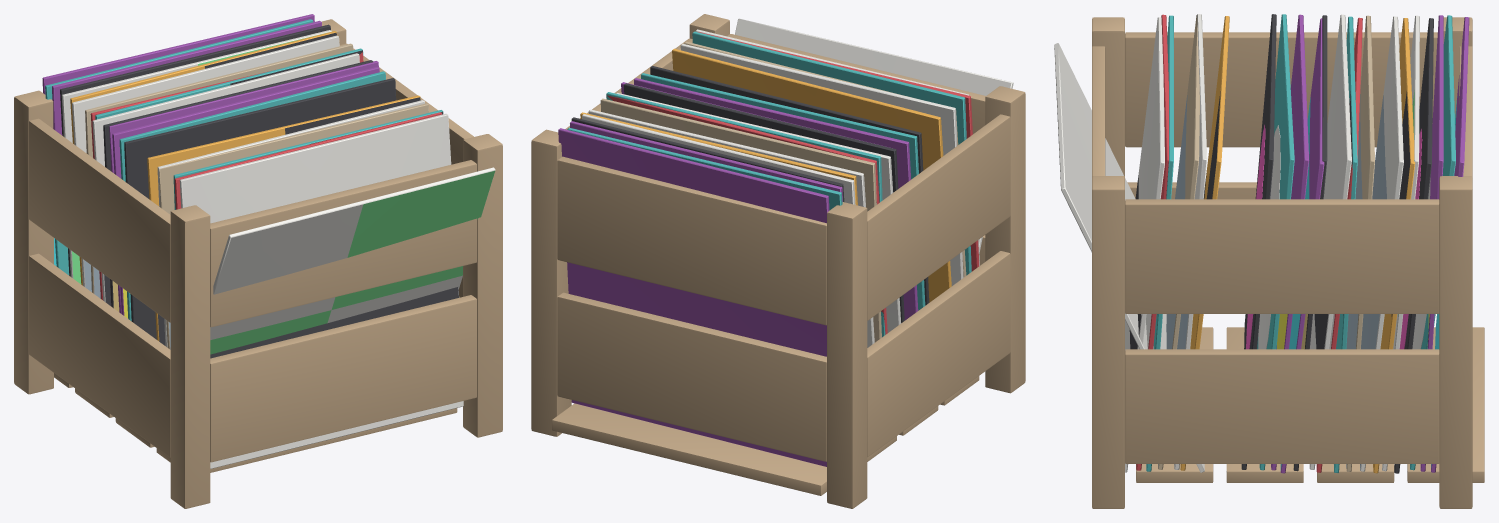
The model's file is paper_record_crate.fbx.
The picture shows the model from 3 angles, left to right: view 1: azimuth 30°, elevation 25°; view 2: azimuth 150°, elevation 25°; view 3: azimuth 270°, elevation 25°; orthographic projection. The views are drawn at different scales.
Parts seen in each view (by area): view 1: paper_record_crate; view 2: paper_record_crate; view 3: paper_record_crate.
Boxes of the visible parts, box(x1,y1,x2,y2) form: paper_record_crate: box(14, 14, 502, 508); paper_record_crate: box(531, 14, 1025, 508); paper_record_crate: box(1054, 14, 1484, 508).
Size of the model in its own units: 0.37 by 0.3356 by 0.3901.
